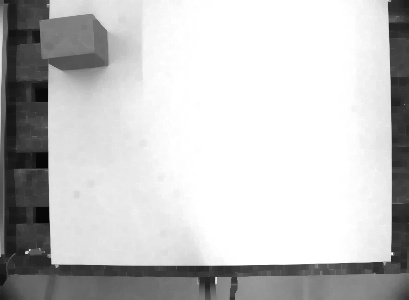b5: (36, 11, 111, 73)
